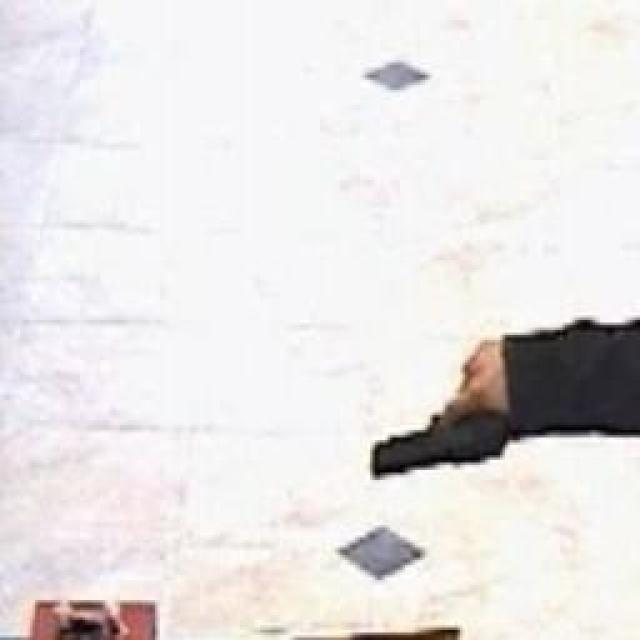Guns: (348, 315, 523, 489)
